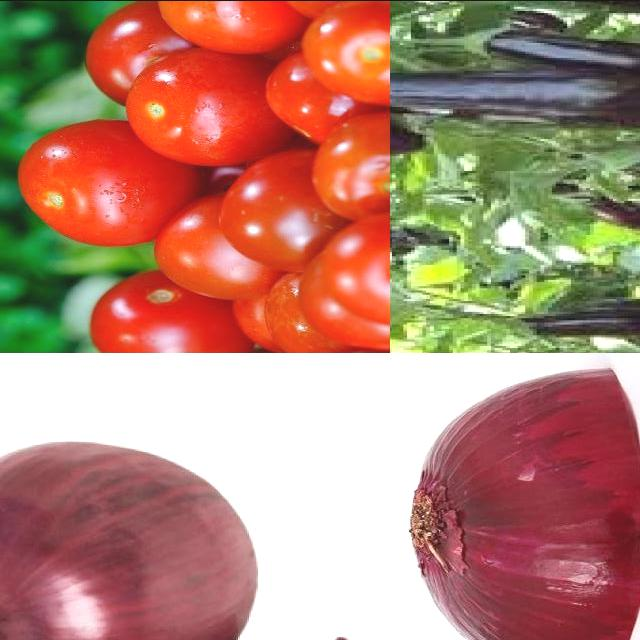eggplant: (391, 73, 640, 122), (512, 297, 640, 340), (594, 137, 640, 188), (526, 1, 640, 20)
onion: (406, 367, 640, 640), (1, 438, 261, 640)
tomato: (18, 122, 204, 250), (128, 52, 299, 166), (220, 150, 360, 266), (152, 194, 288, 294), (88, 270, 251, 353), (83, 1, 195, 107), (304, 1, 391, 107), (302, 246, 391, 347), (315, 111, 391, 222), (159, 1, 308, 54), (327, 212, 391, 326)
